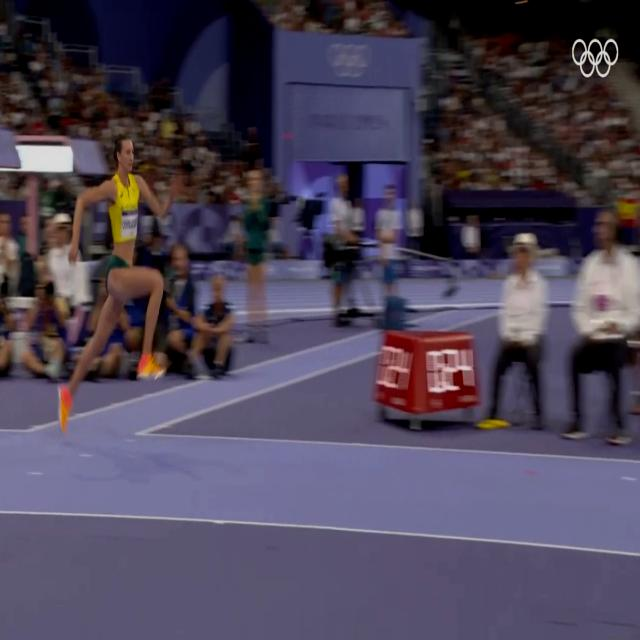run: (58, 137, 172, 431)
